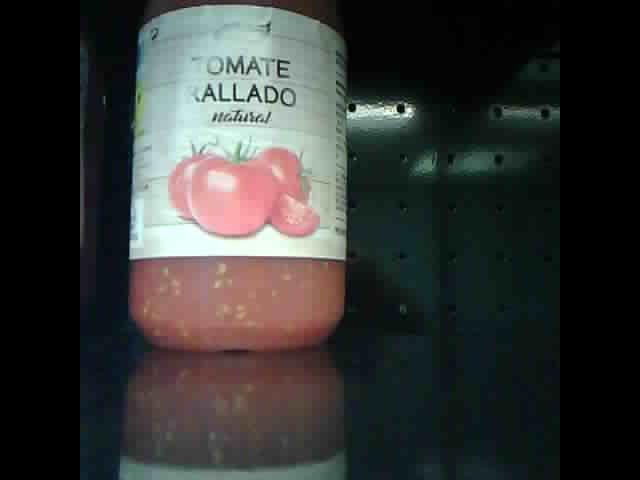tomate: (129, 3, 349, 353)
